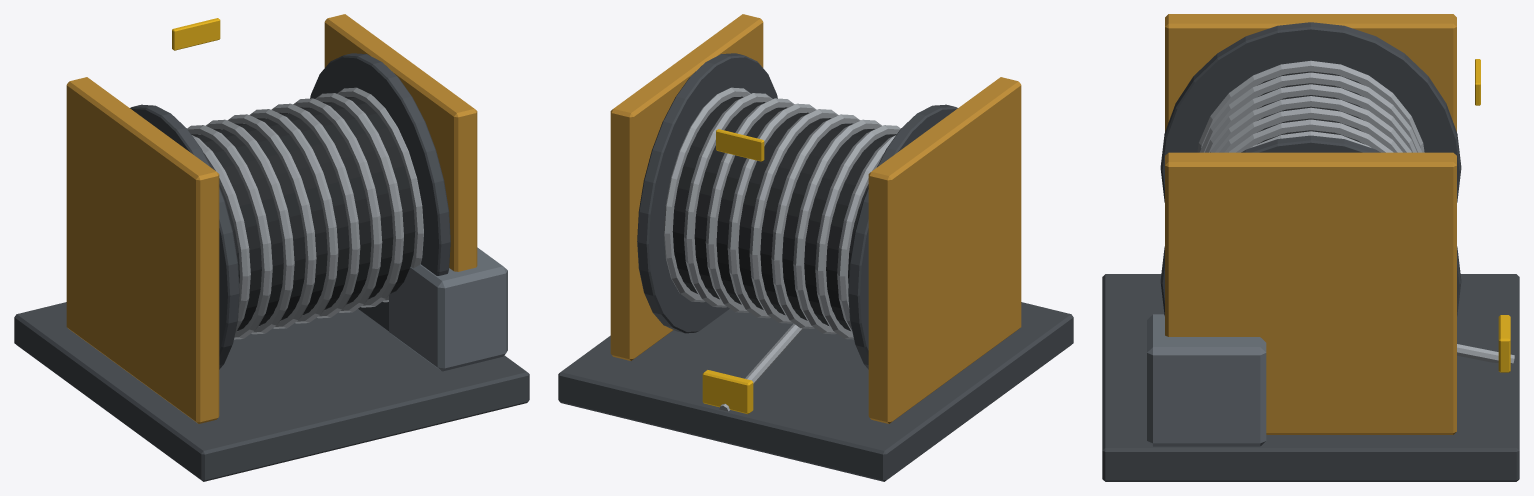
File: tow_winch.glb
The picture shows the model from 3 angles, left to right: view 1: azimuth 30°, elevation 25°; view 2: azimuth 150°, elevation 25°; view 3: azimuth 270°, elevation 25°; orthographic projection. The views are drawn at different scales.
Parts seen in each view (by area): view 1: tow_winch; view 2: tow_winch; view 3: tow_winch.
Part boxes in pixels (bbox=[...]): tow_winch: bbox=[14, 14, 529, 481]; tow_winch: bbox=[558, 14, 1073, 481]; tow_winch: bbox=[1102, 14, 1519, 481].
Bounding box in the file's own units: 1.4 × 1.2 × 1.4.
